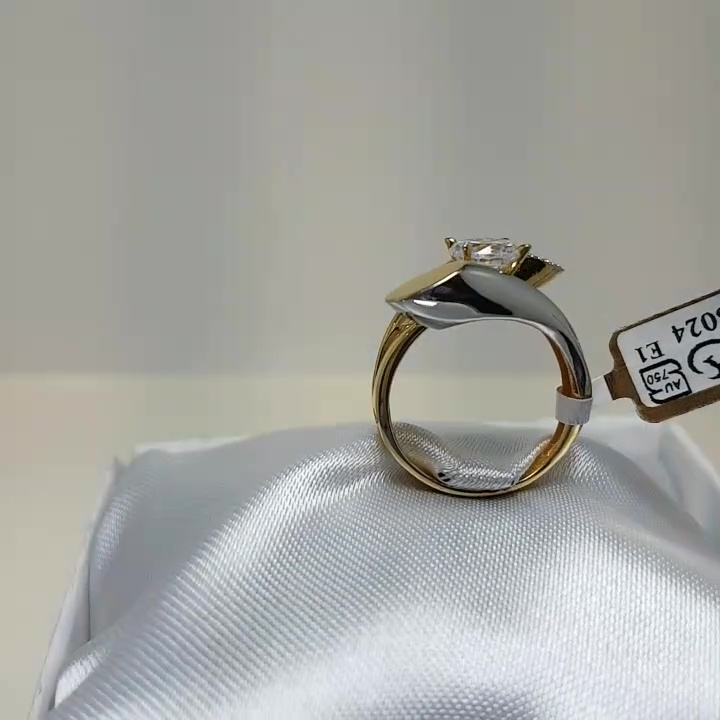Ring 7: (353, 223, 614, 507)
